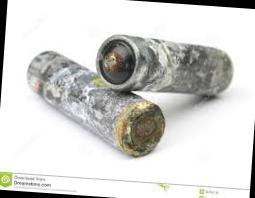battery: (15, 44, 178, 168), (92, 22, 239, 106)
